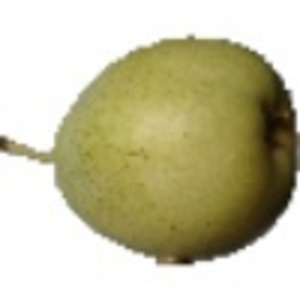pera: (1, 35, 300, 269)
